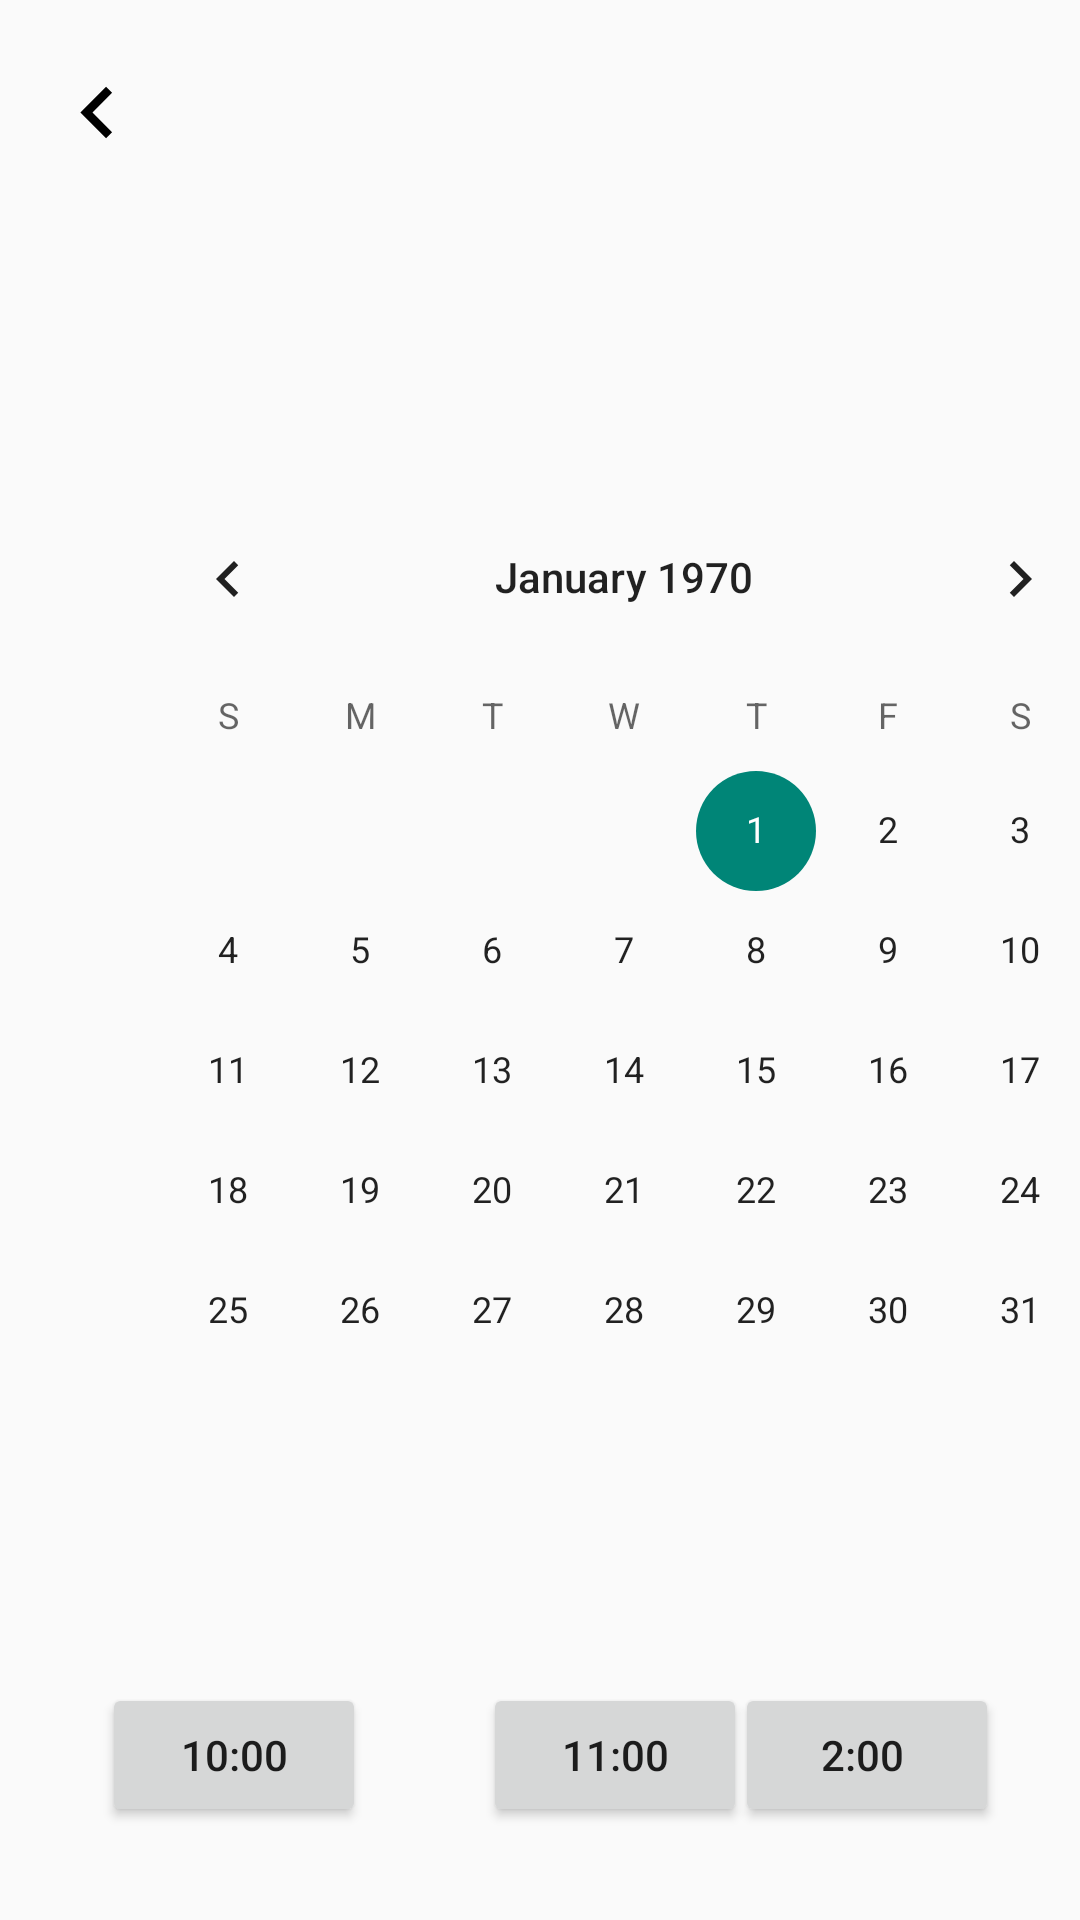

Named icons in this screenshot (1080w x 1920h) and their centers, (x,y):
leftkey: (96,112)
